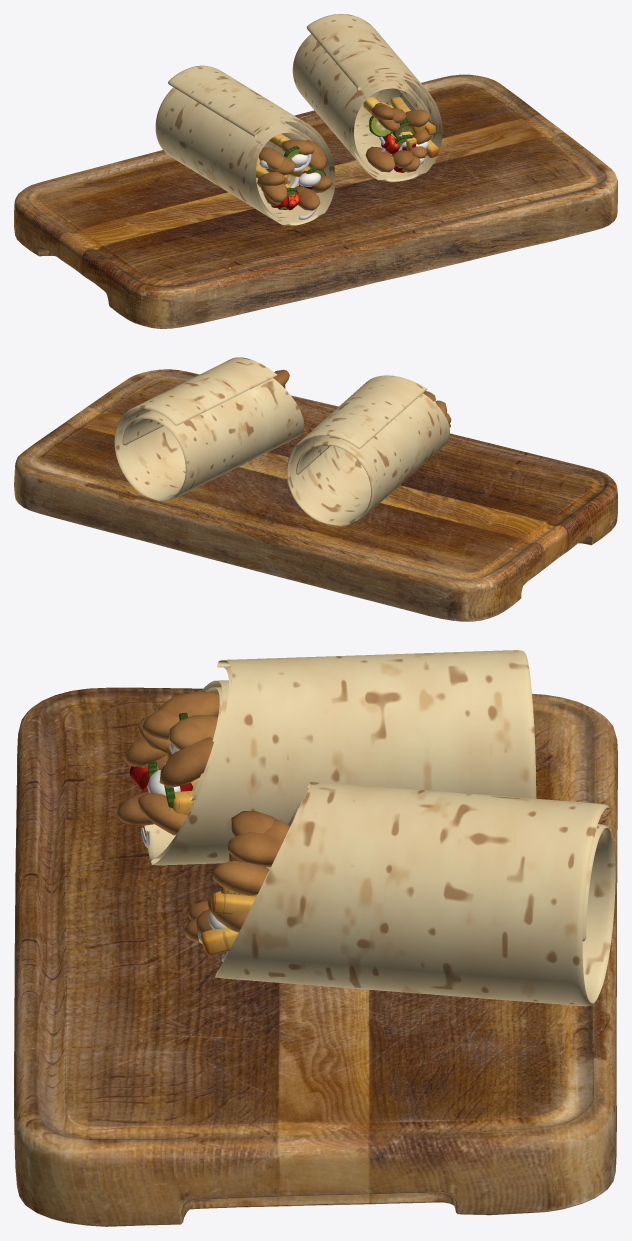
File: chicken-shawarma.glb
3 renders of one model, top to bottom at view 1: azimuth 30°, elevation 25°; view 2: azimuth 150°, elevation 25°; view 3: azimuth 270°, elevation 25°, orthographic. The views are drawn at different scales.
Parts seen in each view (by area): view 1: base, pita, chicken, fries, pickles, tomato, garlic; view 2: base, pita, chicken; view 3: base, pita, chicken, fries.
Boxes of the visible parts, x1=… form: base: x1=14, y1=74, x2=617, y2=328; pita: x1=155, y1=14, x2=442, y2=226; chicken: x1=257, y1=103, x2=432, y2=210; fries: x1=256, y1=96, x2=438, y2=197; pickles: x1=278, y1=115, x2=413, y2=209; tomato: x1=271, y1=134, x2=416, y2=210; garlic: x1=259, y1=141, x2=429, y2=186; base: x1=14, y1=369, x2=617, y2=621; pita: x1=114, y1=357, x2=449, y2=526; chicken: x1=273, y1=369, x2=451, y2=427; base: x1=14, y1=687, x2=617, y2=1226; pita: x1=144, y1=650, x2=615, y2=1006; chicken: x1=115, y1=692, x2=290, y2=943; fries: x1=167, y1=745, x2=257, y2=955.
Bounding box in the file's own units: 0.36 × 0.0973 × 0.1974.
10 materials, 7 textured.
